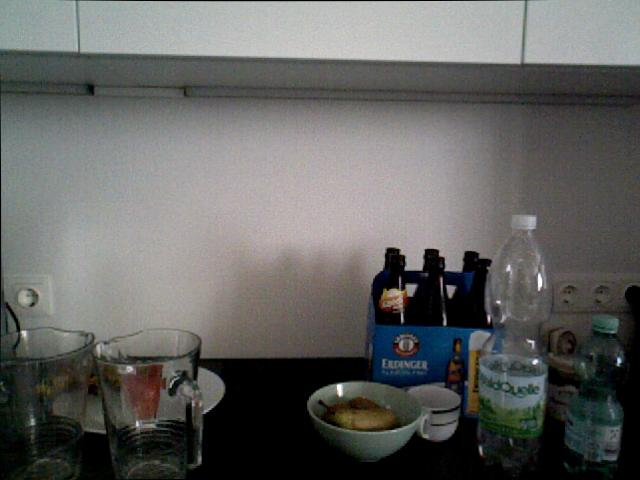bench: (476, 213, 551, 474), (561, 314, 628, 479), (418, 252, 448, 325), (385, 252, 409, 326), (444, 337, 465, 414), (469, 260, 494, 324), (382, 244, 401, 272), (461, 251, 480, 273), (422, 250, 440, 272)
bicycle: (107, 369, 165, 424)
bird: (303, 378, 423, 459)
giraffe: (546, 319, 580, 363)
handbag: (92, 327, 203, 479), (0, 326, 95, 479), (406, 384, 461, 442)
motorcycle: (30, 363, 123, 413)
